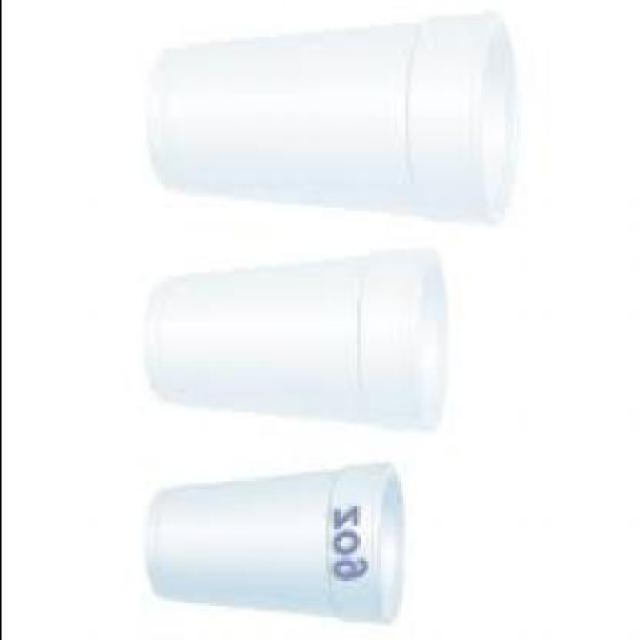PAPER: (156, 17, 518, 225), (139, 256, 450, 432), (148, 466, 407, 629)
